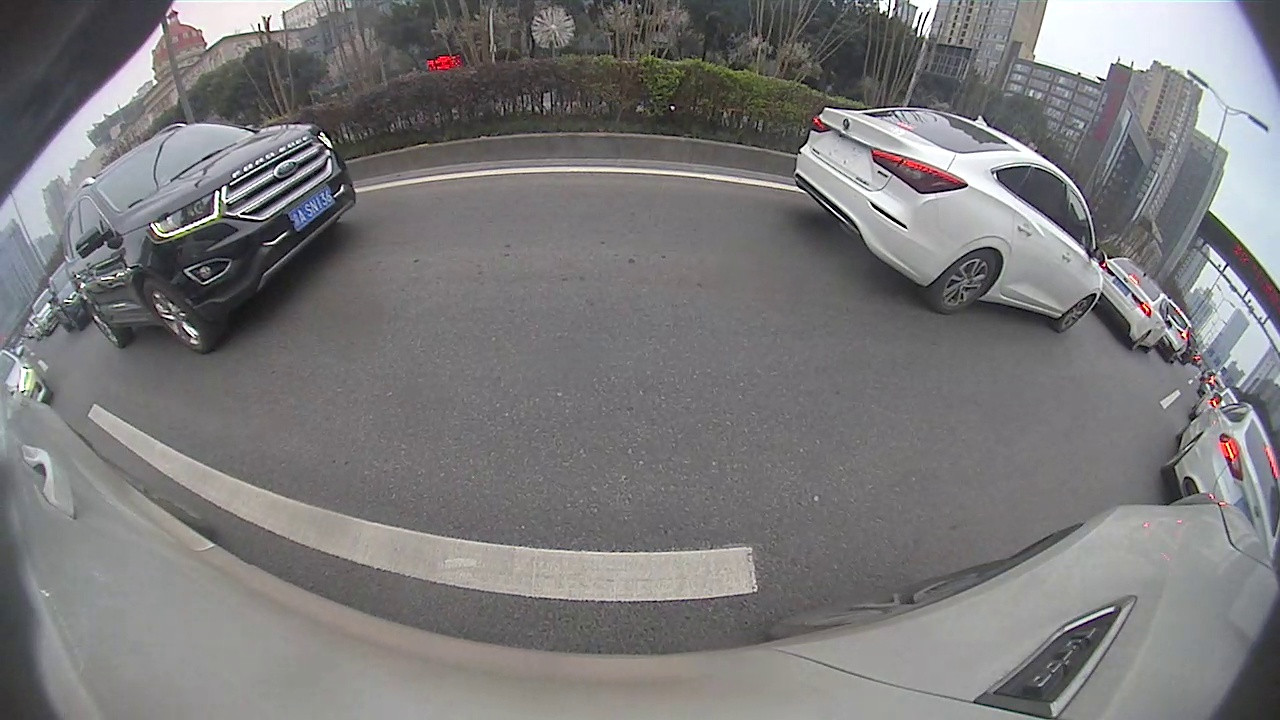car: (792, 105, 1111, 336), (60, 120, 360, 355), (1160, 395, 1278, 558), (1091, 253, 1173, 354)
front: (143, 282, 211, 353), (1056, 295, 1095, 335)
rear: (929, 251, 1003, 318), (89, 305, 124, 350)
